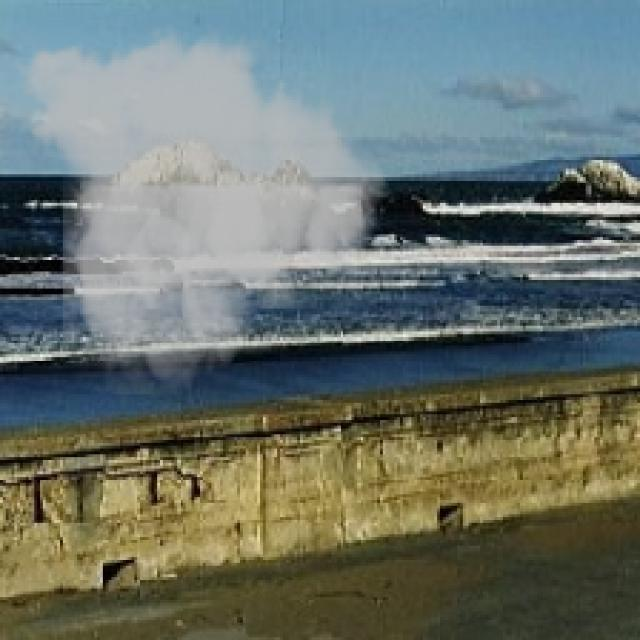smoke: (3, 20, 400, 394)
